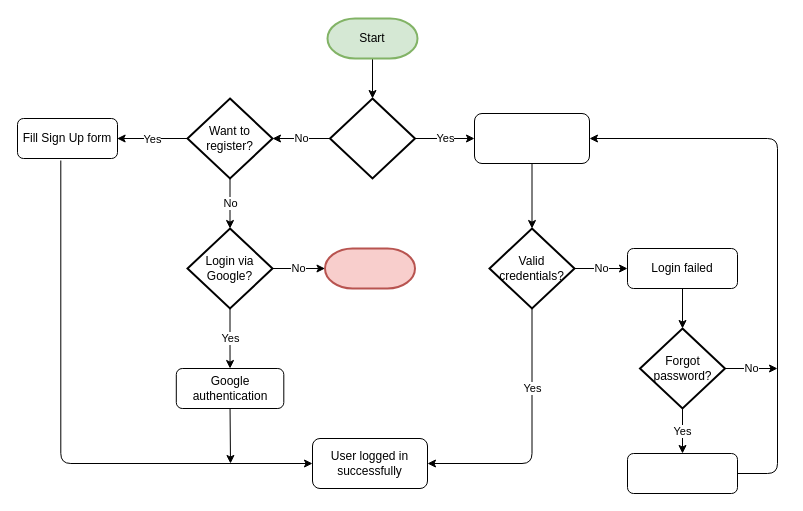
Some shapes in this 803 by 511 pixel diagram are drawn without their labels. Here are the shapes that lost their labels. From the top down, the box of each, then its label:
(328, 97, 416, 179): Already a member?
(474, 112, 590, 164): Enter email & password
(324, 247, 416, 289): Exit
(626, 452, 738, 494): Reset password
